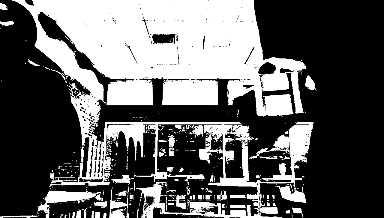H: (252, 71, 302, 114)
